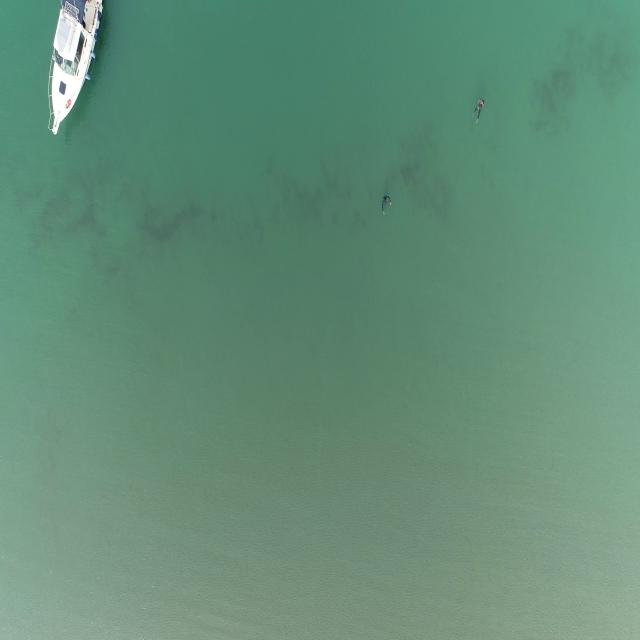boat: (42, 1, 102, 139)
person: (474, 100, 485, 129), (379, 196, 392, 219)
